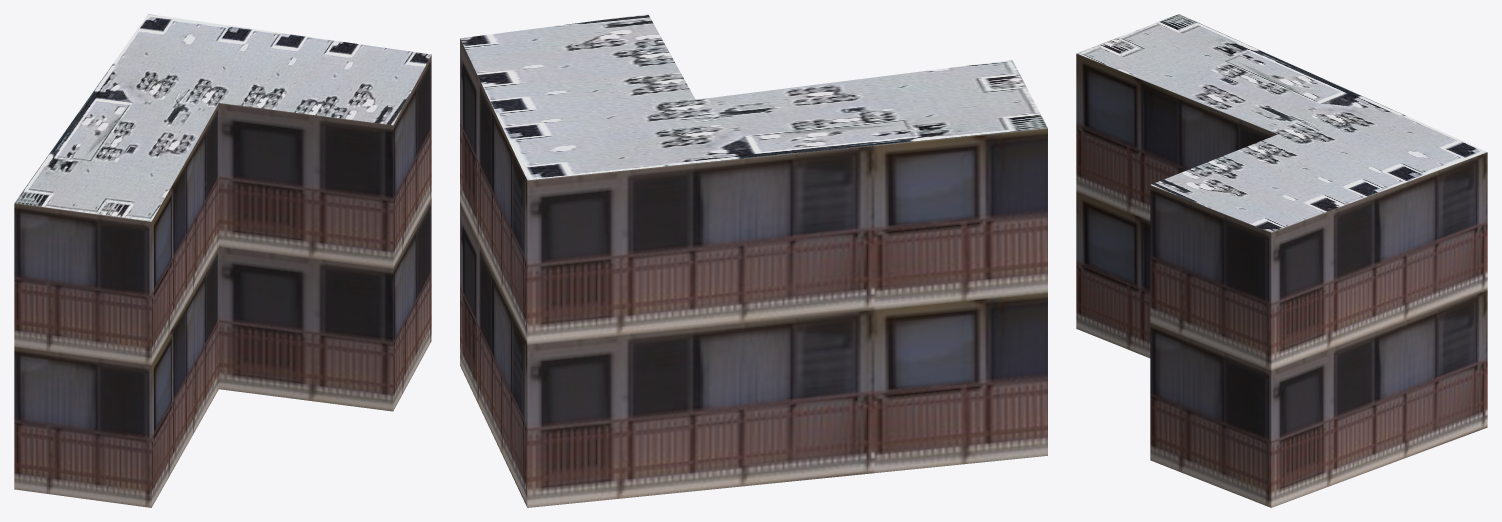
File: ResTex__3107.fbx
3 views of the same model, side by side, from view 1: azimuth 30°, elevation 25°; view 2: azimuth 150°, elevation 25°; view 3: azimuth 270°, elevation 25° (orthographic). The views are drawn at different scales.
Visible parts, largest first — view 1: CityEngineMaterial_6_m, CityEngineMaterial_m; view 2: CityEngineMaterial_6_m, CityEngineMaterial_m; view 3: CityEngineMaterial_6_m, CityEngineMaterial_m.
Part boxes in pixels (bbox=[...]): CityEngineMaterial_6_m: bbox=[14, 55, 431, 507]; CityEngineMaterial_m: bbox=[14, 14, 431, 221]; CityEngineMaterial_6_m: bbox=[460, 38, 1047, 507]; CityEngineMaterial_m: bbox=[460, 14, 1047, 180]; CityEngineMaterial_6_m: bbox=[1076, 53, 1487, 507]; CityEngineMaterial_m: bbox=[1077, 14, 1486, 232].
Size of the model in its own units: 10.21 by 6 by 8.12.
2 materials, 2 textured.
